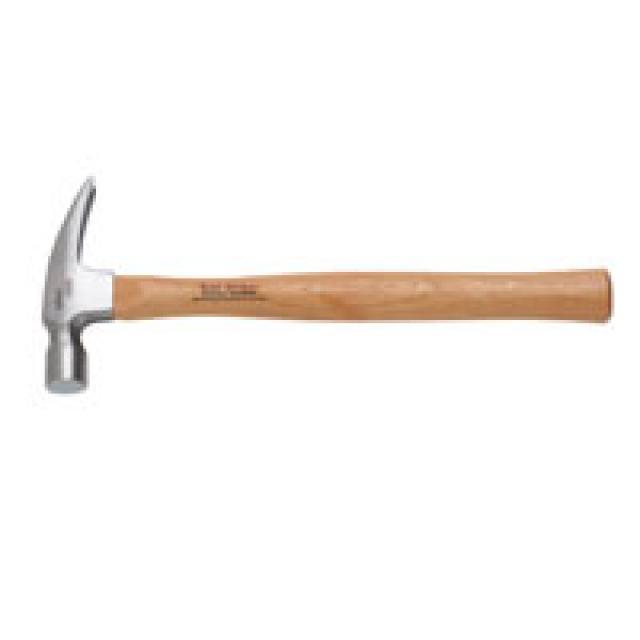hammer: (35, 172, 620, 400)
